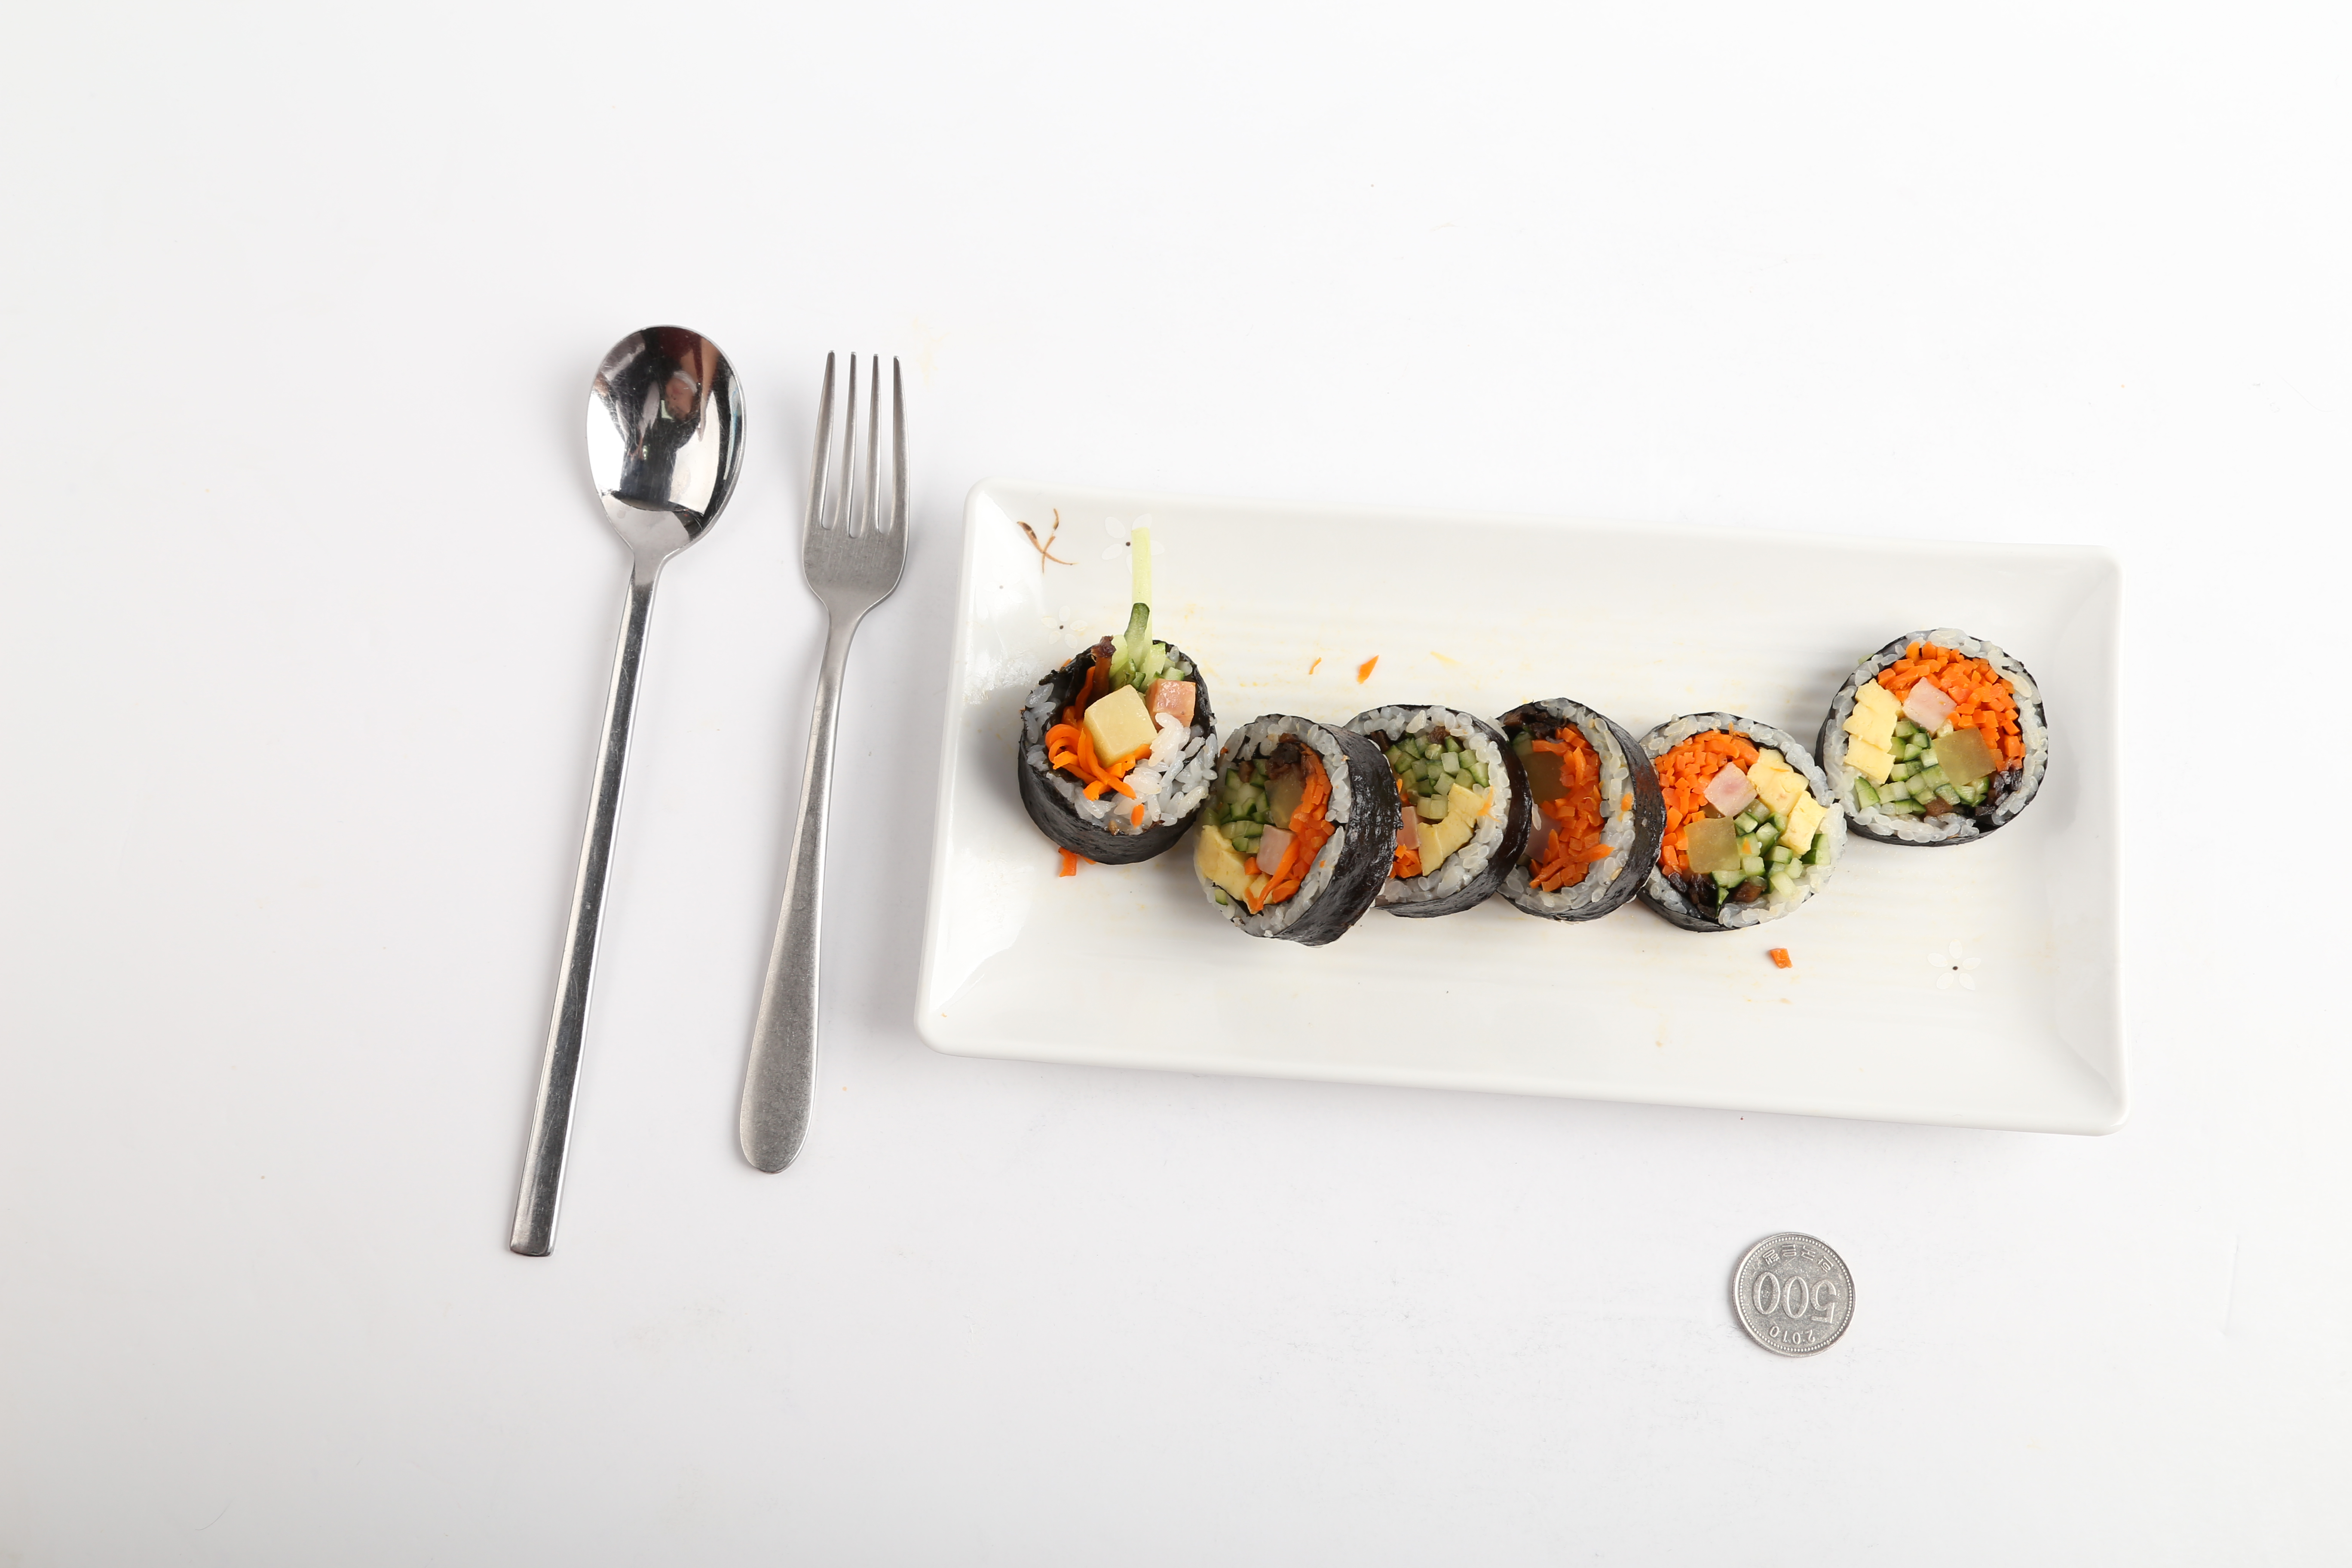dish: (927, 476, 2137, 1134)
ref_coin: (1727, 1223, 1855, 1365)
ref_fork: (794, 345, 912, 661)
ref_spoon: (581, 318, 747, 602)
김밥: (1018, 628, 2046, 941)
